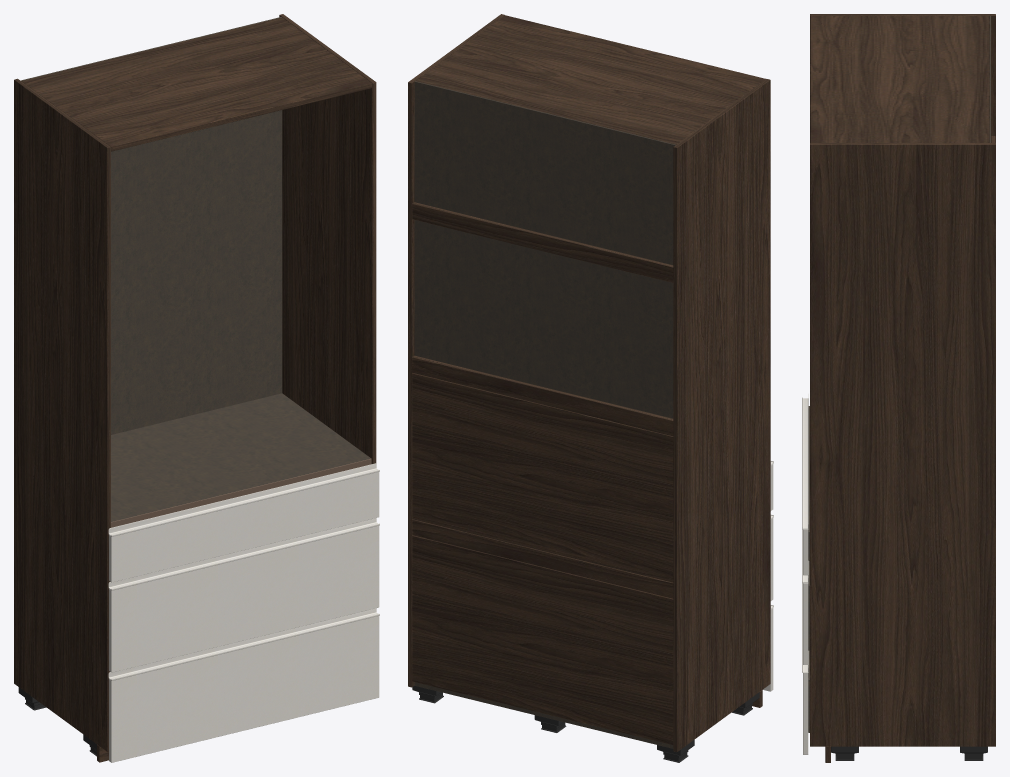
3 renders of one model, left to right at view 1: azimuth 30°, elevation 25°; view 2: azimuth 150°, elevation 25°; view 3: azimuth 270°, elevation 25°, orthographic.
Parts seen in each view (by area): view 1: HK1001275; view 2: HK1001275; view 3: HK1001275.
Boxes of the visible parts, <box> form: HK1001275: <box>14,14,379,762</box>; HK1001275: <box>408,14,773,762</box>; HK1001275: <box>802,14,995,762</box>.
Size of the model in its own units: 1 by 2.2 by 0.6256.
Materials: 8 (7 with a texture image).
